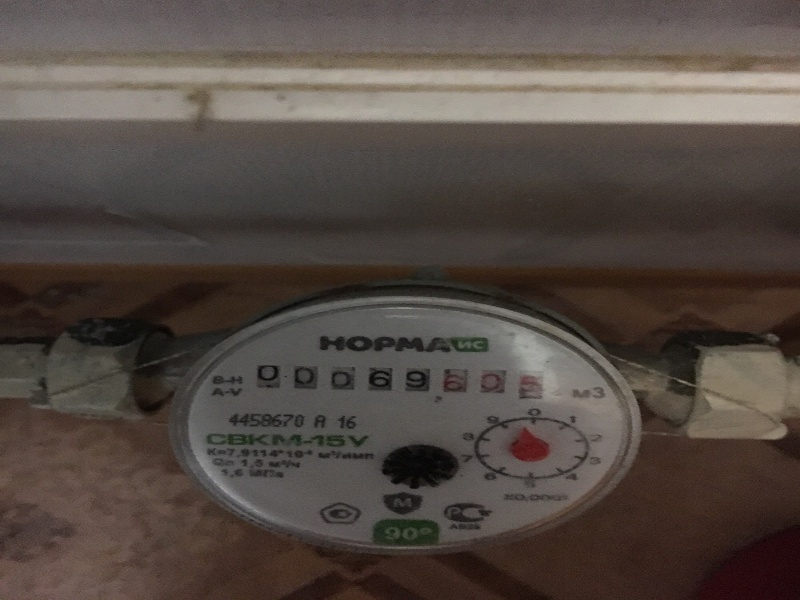meter: (247, 360, 550, 404)
